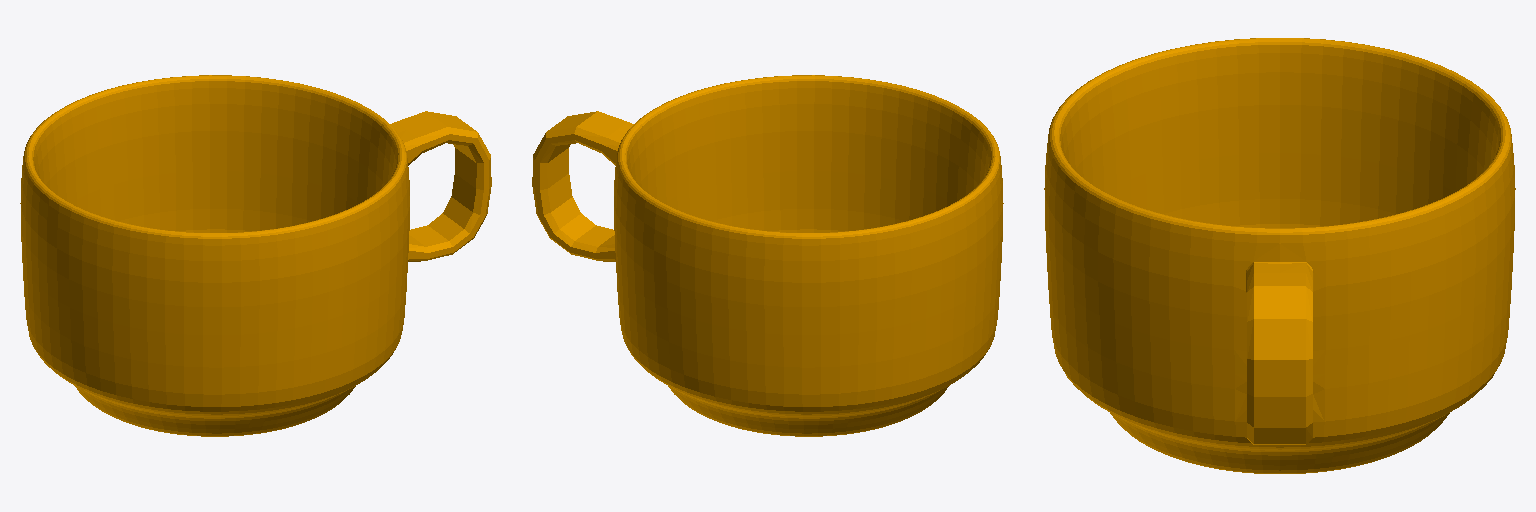
robot.urdf — apple:
<?xml version="0.0" ?>
<robot name="apple">
  <link name="baseLink">
    <contact>
      <lateral_friction value="1.0"/>
      <rolling_friction value="0.0"/>
      <contact_cfm value="0.0"/>
      <contact_erp value="1.0"/>
    </contact>
    <inertial>
      <origin rpy="0 0 0" xyz="0.0 0.0 0.0"/>
       <mass value=".1"/>
       <inertia ixx="1" ixy="0" ixz="0" iyy="1" iyz="0" izz="1"/>
    </inertial>
    <visual>
      <origin rpy="0 0 0" xyz="0 0 0"/>
      <geometry>
        <mesh filename="meshes/notextures/coffee_cup.obj" scale="0.001 0.001 0.001" />
      </geometry>

    </visual>
    <collision>
      <origin rpy="0 0 0" xyz="0 0 0"/>
      <geometry>
	 	<mesh filename="meshes/notextures/coffee_cup.obj" scale="0.001 0.001 0.001" />
      </geometry>
    </collision>
  </link>
</robot>

--- Facts derived from the render (not from the file) ---
Views: 3 orthographic renders of the robot side by side, from view 1: azimuth 30°, elevation 25°; view 2: azimuth 150°, elevation 25°; view 3: azimuth 270°, elevation 25°.
Robot: apple — 1 links, 0 joints (none); root link baseLink; default pose: every joint at zero.
Visible links, largest first — view 1: baseLink; view 2: baseLink; view 3: baseLink.
Link boxes in pixels (x1,y1,x2,y2): baseLink: [20, 75, 491, 436]; baseLink: [532, 75, 1003, 436]; baseLink: [1044, 38, 1515, 473].
Size in the robot's own frame: 0.1014 by 0.0789 by 0.0505 metres.
Meshes: 1 distinct files referenced, 1 mesh visuals loaded (1 OBJ).